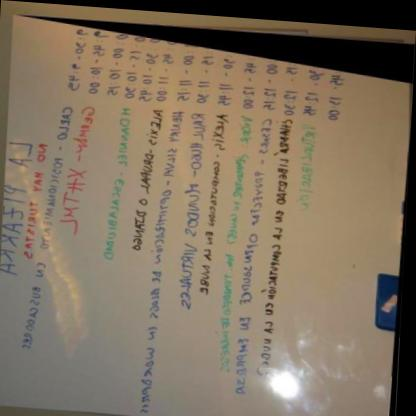Handwritten text: (131, 99, 187, 415), (19, 95, 77, 354), (258, 110, 297, 369), (51, 96, 107, 238), (192, 101, 232, 298), (174, 96, 209, 316), (123, 99, 170, 254), (94, 100, 137, 267), (0, 122, 38, 288), (17, 132, 55, 266), (292, 111, 327, 213)
Whiteboard: (0, 14, 413, 416)
